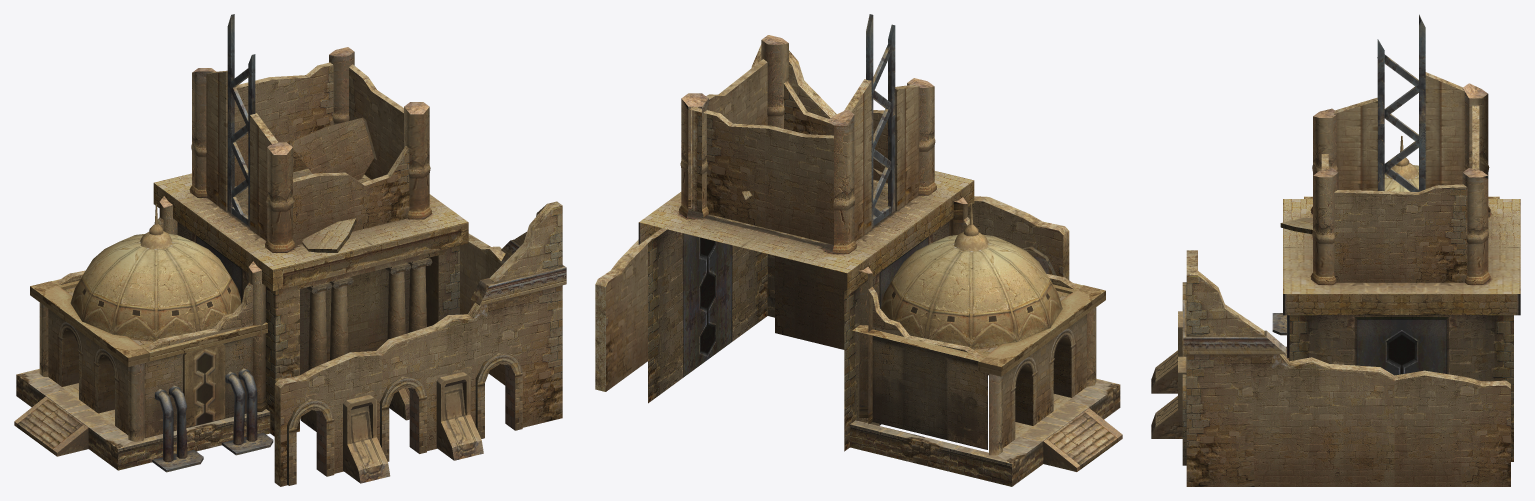
The model's file is yw_huxiaoshamo_zhujian01.FBX.
3 renders of one model, left to right at view 1: azimuth 30°, elevation 25°; view 2: azimuth 150°, elevation 25°; view 3: azimuth 270°, elevation 25°, orthographic. The views are drawn at different scales.
Visible parts, largest first — view 1: yw_huxiaoshamo_zhujian01; view 2: yw_huxiaoshamo_zhujian01; view 3: yw_huxiaoshamo_zhujian01.
Boxes of the visible parts, <box> form: yw_huxiaoshamo_zhujian01: <box>14,14,566,486</box>; yw_huxiaoshamo_zhujian01: <box>595,14,1122,486</box>; yw_huxiaoshamo_zhujian01: <box>1151,14,1520,486</box>.
Size of the model in its own units: 1617 by 1358 by 1232.
